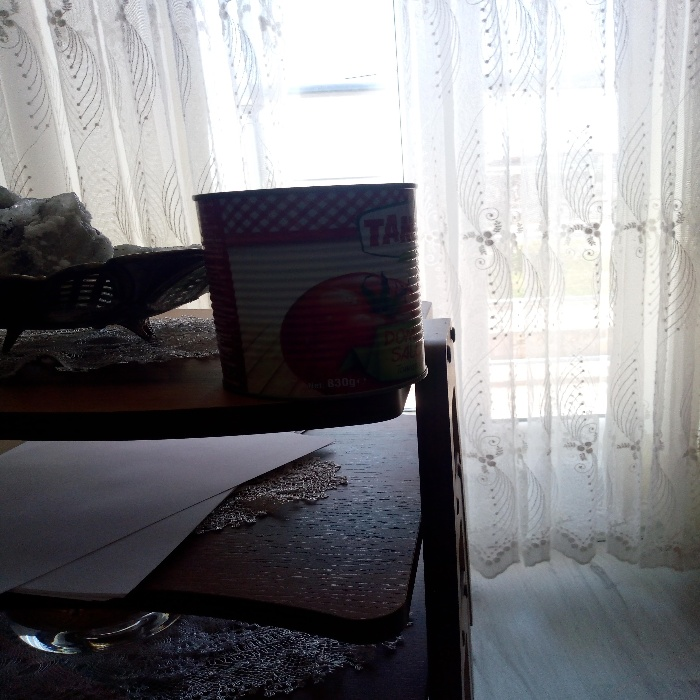salca: (177, 140, 445, 406)
